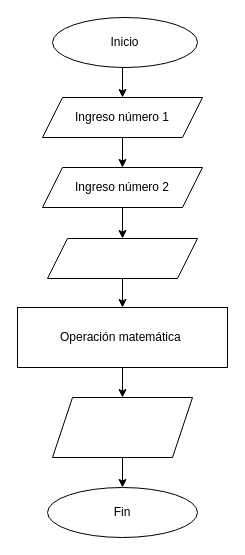
This 245x555 diagram has some shape labels left out. The centre of each missing label's shape, as x and y in pixels:
Ingreso operación + - / * %: (x=122, y=258)
Mostrar resultado: (x=122, y=427)
